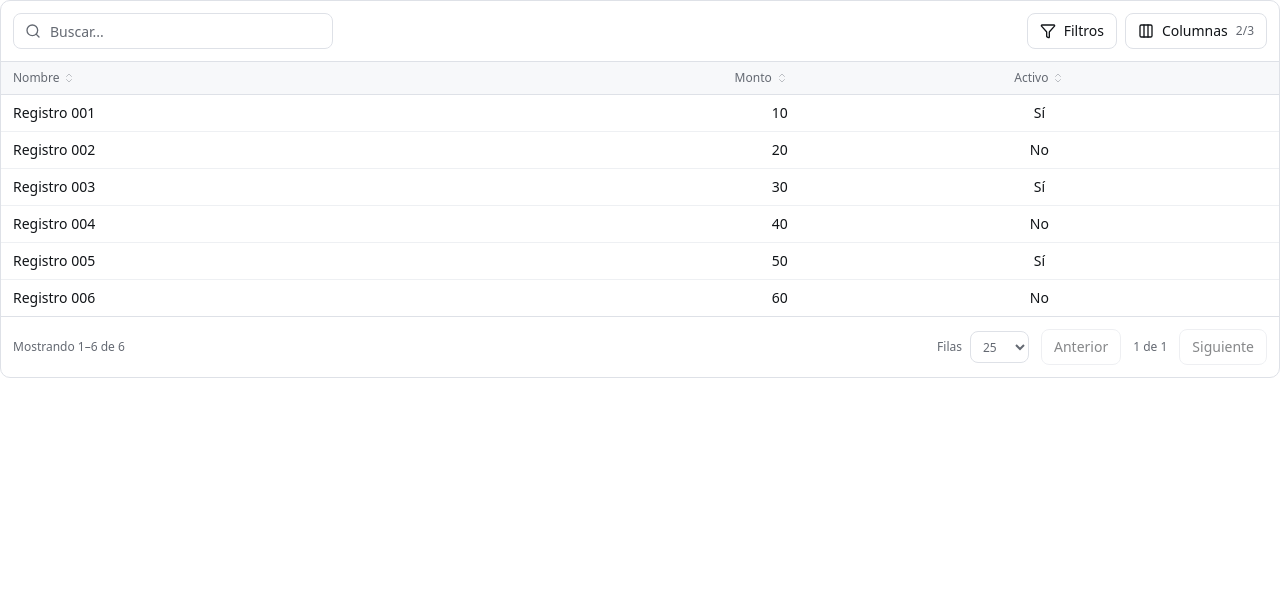
Test: FilterBuilder › quita todas las condiciones de una vez
This screenshot has width=1280, height=601.
Click the button with aria-label "Filtros,": click(1072, 31) 1027,13 -> 1117,49
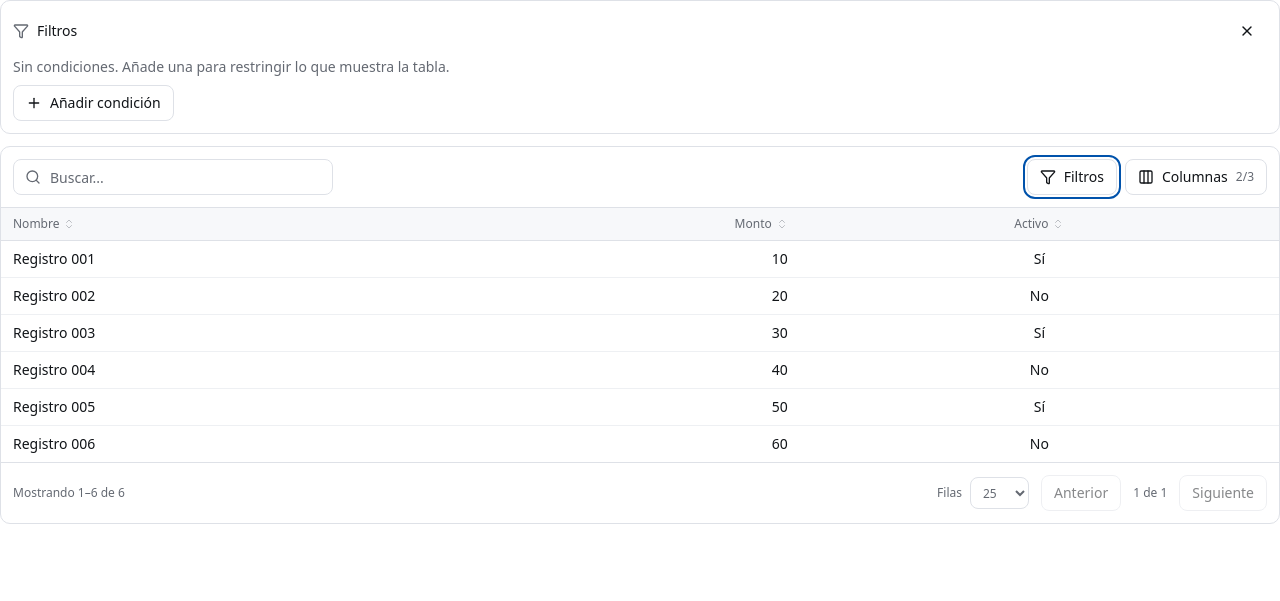
Click the button "Añadir condición": click(93, 103) 13,85 -> 174,121
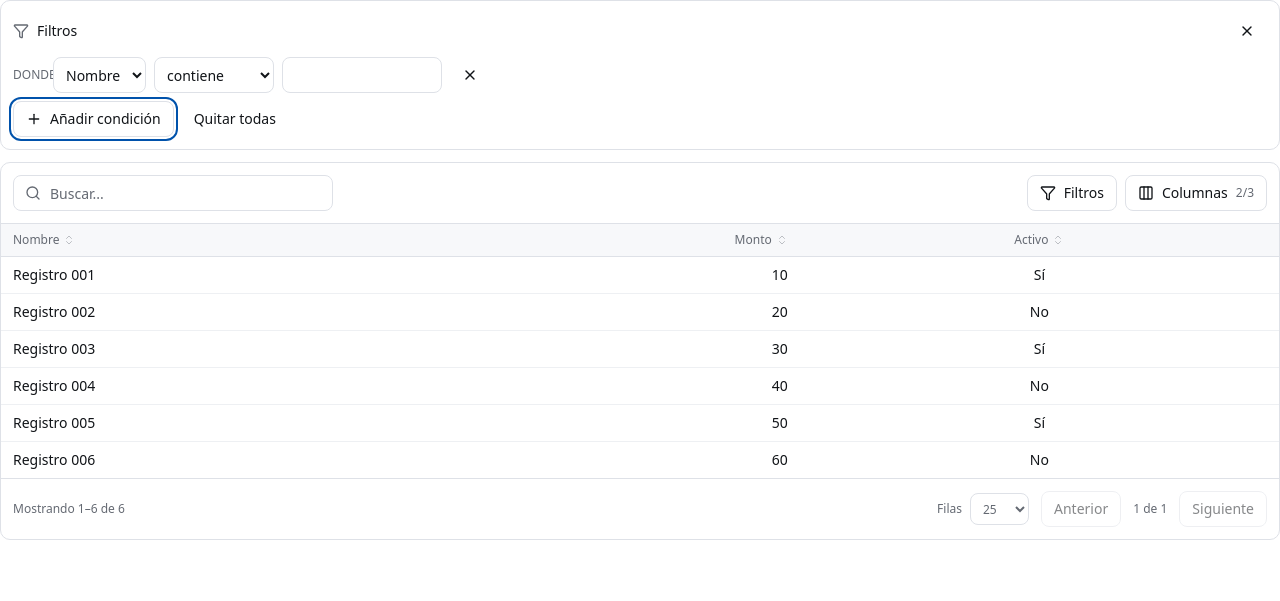
Click the button "Añadir condición": click(93, 119) 13,101 -> 174,137
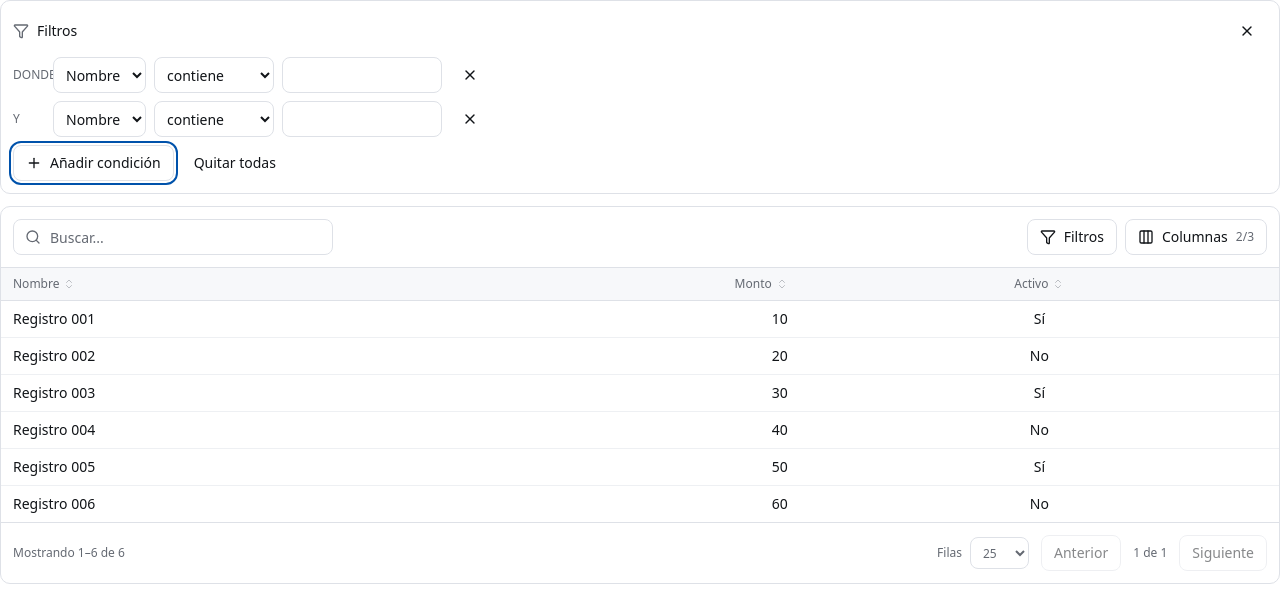
Click the button "Quitar todas": click(235, 163) 182,145 -> 288,181
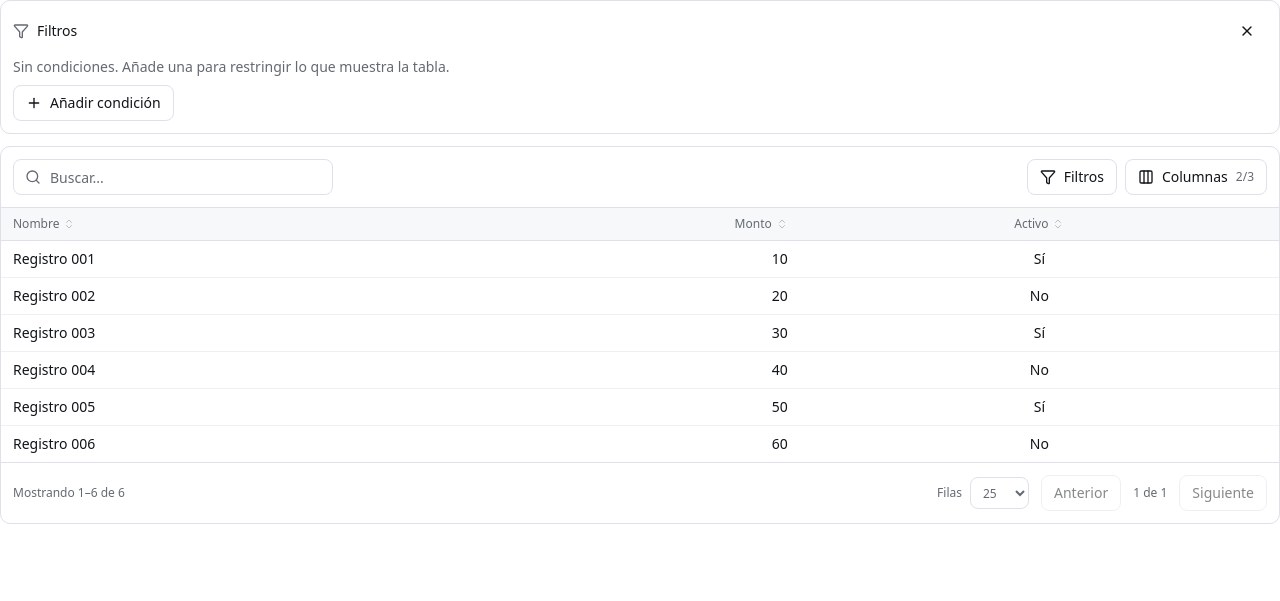
Now the text "Sin condiciones" is shown, box 13,57 -> 450,76
